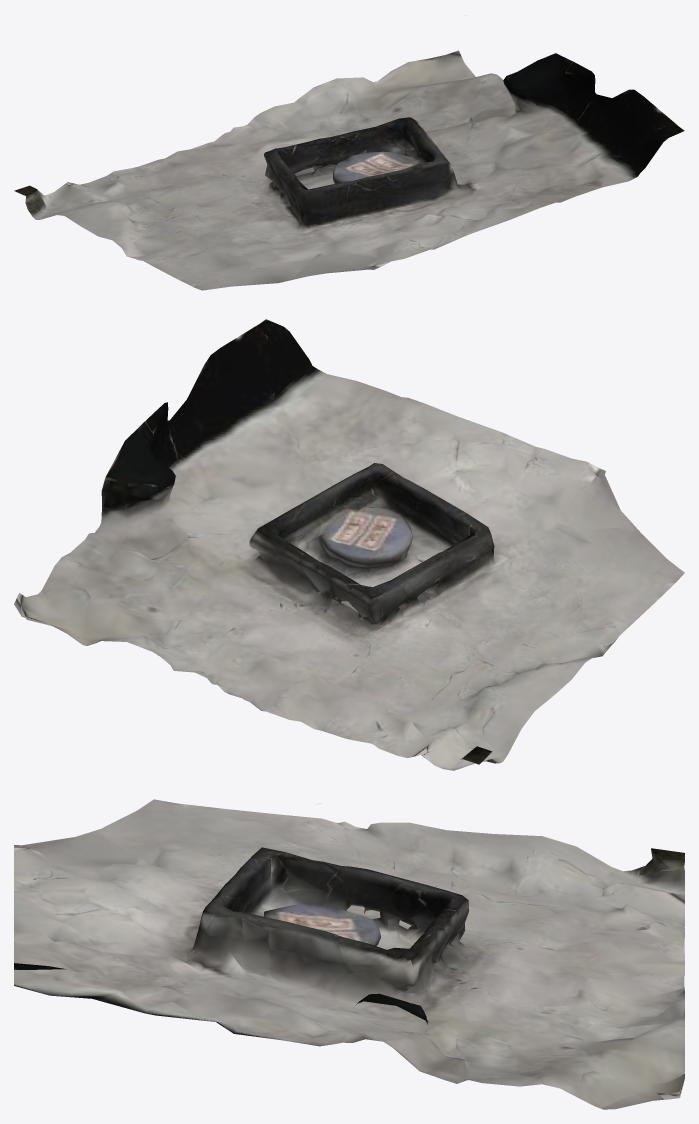
The model's file is hall.glb.
3 renders of one model, top to bottom at view 1: azimuth 30°, elevation 25°; view 2: azimuth 150°, elevation 25°; view 3: azimuth 270°, elevation 25°, orthographic. The views are drawn at different scales.
Size of the model in its own units: 2.2 by 1 by 2.09.
Materials: 1 (1 with a texture image).
